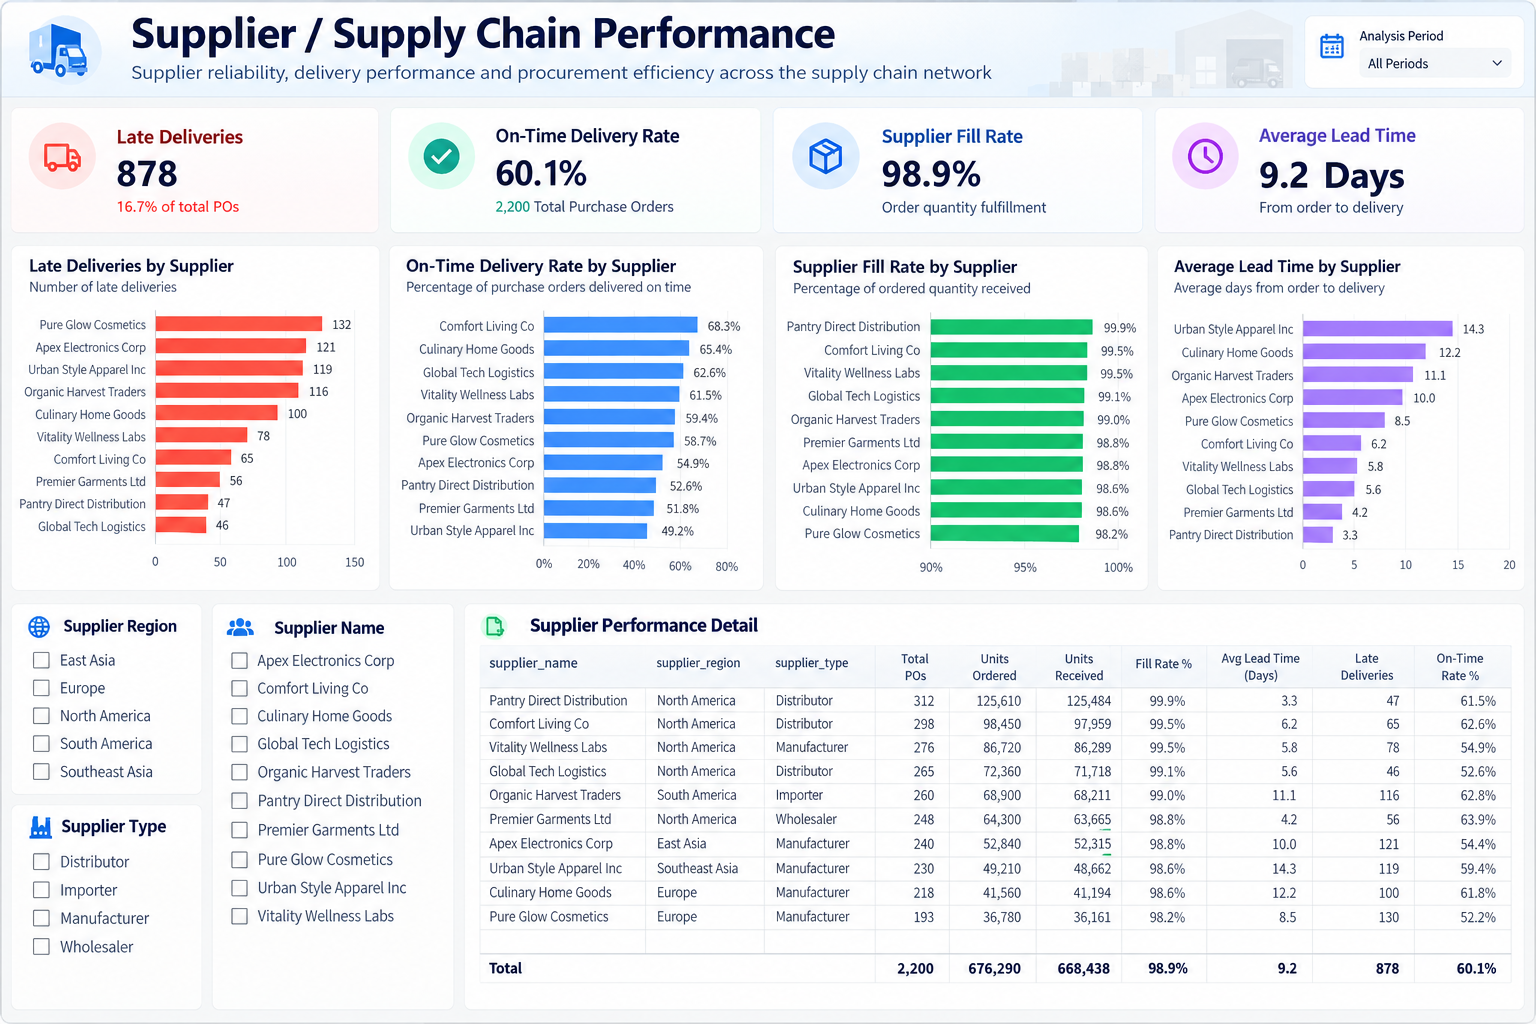

Layout of this report page (visuals, bound fields, positions):
{"tool":"powerbi","page":{"name":"Supply Chain","canvas":[2000,1400],"ordinal":4},"visuals":[{"type":"cardVisual","fields":{"Data":["fact_purchase.Supplier Fill Rate"]},"box":[1152.5,130,170,130],"z":0},{"type":"cardVisual","fields":{"Data":["fact_purchase.On-Time Delivery Rate"]},"box":[652.5,130,171.1,128.9],"z":1000},{"type":"cardVisual","fields":{"Data":["dim_date.Average Lead Time"]},"box":[1655,130,171.1,128.9],"z":2000},{"type":"cardVisual","fields":{"Data":["fact_purchase.Late Deliveries"]},"box":[155,130,171.1,128.9],"z":3000},{"type":"clusteredColumnChart","fields":{"Category":["dim_supplier.supplier_name"],"Y":["fact_purchase.Supplier Fill Rate"]},"box":[1010,284.4,455,350],"z":4000},{"type":"clusteredColumnChart","fields":{"Category":["dim_supplier.supplier_name"],"Y":["fact_purchase.On-Time Delivery Rate"]},"box":[487.5,284.4,500,350],"z":5000},{"type":"clusteredBarChart","fields":{"Category":["dim_supplier.supplier_name"],"Y":["dim_date.Average Lead Time"]},"box":[1490,284.4,500,350],"z":6000},{"type":"tableEx","title":"Supplier Performance Detail","fields":{"Values":["dim_supplier.supplier_name","dim_supplier.supplier_region","dim_supplier.supplier_type","fact_purchase.Supplier Fill Rate","dim_date.Average Lead Time","fact_purchase.Late Deliveries","fact_purchase.On-Time Delivery Rate"]},"box":[932.5,682.5,1057.8,411.1],"z":7000},{"type":"slicer","fields":{"Values":["dim_supplier.supplier_region"]},"box":[202.5,680,188.9,242.2],"z":8000},{"type":"slicer","fields":{"Values":["dim_supplier.supplier_type"]},"box":[430,682.5,171.1,242.2],"z":9000},{"type":"slicer","fields":{"Values":["dim_supplier.supplier_name"]},"box":[652.5,682.5,235.6,431.1],"z":10000},{"type":"clusteredBarChart","fields":{"Category":["dim_supplier.supplier_name"],"Y":["fact_purchase.Late Deliveries"]},"box":[12.5,284.4,457.5,350],"z":11000},{"type":"textbox","box":[0,0,2000,150],"z":11001}]}

Visuals, with their boxes on the page's 2000x1400 design canvas (x1, y1, x2, y2). These are canvas units, not pixel positions in the 1536x1024 screenshot, which may show the page scaled, cropped or inside an application window:
cardVisual - fact_purchase.Supplier Fill Rate: detection(1152, 130, 1322, 260)
cardVisual - fact_purchase.On-Time Delivery Rate: detection(652, 130, 824, 259)
cardVisual - dim_date.Average Lead Time: detection(1655, 130, 1826, 259)
cardVisual - fact_purchase.Late Deliveries: detection(155, 130, 326, 259)
clusteredColumnChart - dim_supplier.supplier_name x fact_purchase.Supplier Fill Rate: detection(1010, 284, 1465, 634)
clusteredColumnChart - dim_supplier.supplier_name x fact_purchase.On-Time Delivery Rate: detection(488, 284, 988, 634)
clusteredBarChart - dim_supplier.supplier_name x dim_date.Average Lead Time: detection(1490, 284, 1990, 634)
"Supplier Performance Detail" tableEx: detection(932, 682, 1990, 1094)
slicer - dim_supplier.supplier_region: detection(202, 680, 391, 922)
slicer - dim_supplier.supplier_type: detection(430, 682, 601, 925)
slicer - dim_supplier.supplier_name: detection(652, 682, 888, 1114)
clusteredBarChart - dim_supplier.supplier_name x fact_purchase.Late Deliveries: detection(12, 284, 470, 634)
textbox: detection(0, 0, 2000, 150)
